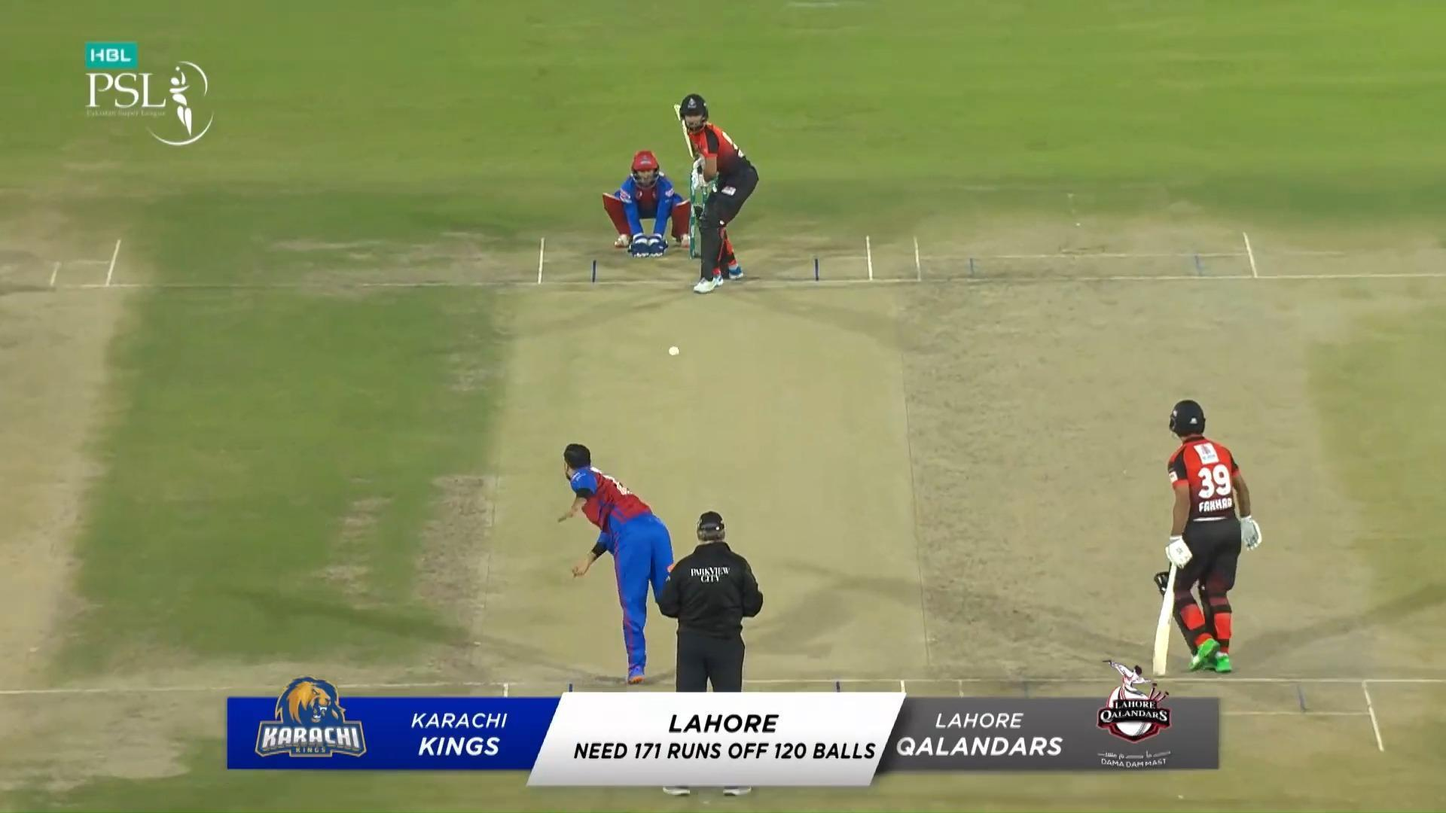BM 1: (674, 92, 759, 295)
BO: (556, 442, 672, 684)
